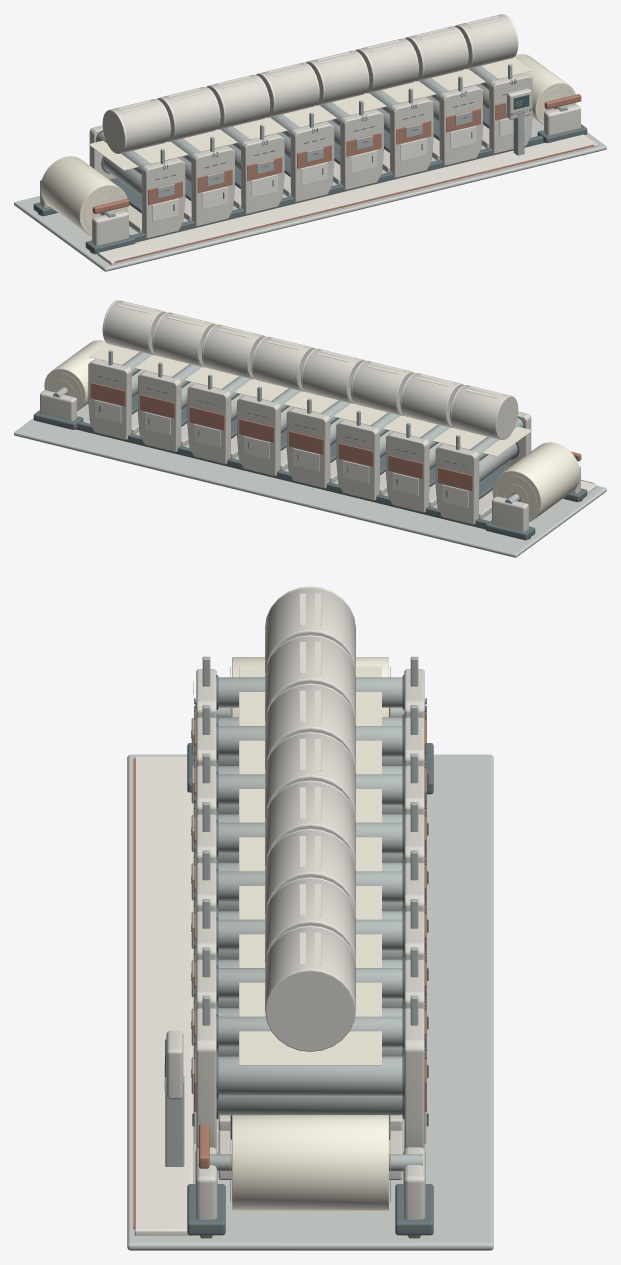
File: bosma-8-clay.glb
The picture shows the model from 3 angles, top to bottom: view 1: azimuth 30°, elevation 25°; view 2: azimuth 150°, elevation 25°; view 3: azimuth 270°, elevation 25°; orthographic projection. The views are drawn at different scales.
Parts seen in each view (by area): view 1: warm porcelain, chalk edges, satin ceramic rollers, ivory paper, studio floor, muted terracotta band, slate recess, UNWIND paper roll · animatable.003, REWIND paper roll · animatable.003; view 2: warm porcelain, studio floor, chalk edges, ivory paper, satin ceramic rollers, muted terracotta band, slate recess, UNWIND paper roll · animatable.003, REWIND paper roll · animatable.003; view 3: warm porcelain, studio floor, satin ceramic rollers, chalk edges, ivory paper, REWIND paper roll · animatable.003, slate recess, muted terracotta band, UNWIND paper roll · animatable.003.
Boxes of the visible parts, left/top/right/bottom form: warm porcelain: left=40, top=14, right=580, bottom=245; chalk edges: left=97, top=14, right=596, bottom=265; satin ceramic rollers: left=97, top=64, right=567, bottom=217; ivory paper: left=88, top=57, right=532, bottom=170; studio floor: left=14, top=118, right=606, bottom=271; muted terracotta band: left=92, top=94, right=594, bottom=262; slate recess: left=33, top=79, right=587, bottom=254; UNWIND paper roll · animatable.003: left=40, top=156, right=128, bottom=235; REWIND paper roll · animatable.003: left=512, top=54, right=576, bottom=124; warm porcelain: left=40, top=300, right=580, bottom=539; studio floor: left=14, top=404, right=606, bottom=557; chalk edges: left=94, top=300, right=596, bottom=507; ivory paper: left=88, top=343, right=532, bottom=456; satin ceramic rollers: left=53, top=350, right=523, bottom=503; muted terracotta band: left=90, top=382, right=594, bottom=490; slate recess: left=33, top=365, right=587, bottom=540; UNWIND paper roll · animatable.003: left=492, top=442, right=580, bottom=521; REWIND paper roll · animatable.003: left=44, top=340, right=108, bottom=410; warm porcelain: left=166, top=586, right=425, bottom=1235; studio floor: left=127, top=754, right=493, bottom=1250; satin ceramic rollers: left=165, top=656, right=422, bottom=1171; chalk edges: left=134, top=586, right=426, bottom=1235; ivory paper: left=239, top=666, right=381, bottom=1065; REWIND paper roll · animatable.003: left=232, top=1115, right=388, bottom=1210; slate recess: left=164, top=675, right=433, bottom=1238; muted terracotta band: left=133, top=709, right=426, bottom=1228; UNWIND paper roll · animatable.003: left=232, top=657, right=388, bottom=717.
Bounding box in the file's own units: 15.2 × 3.3 × 4.8.
